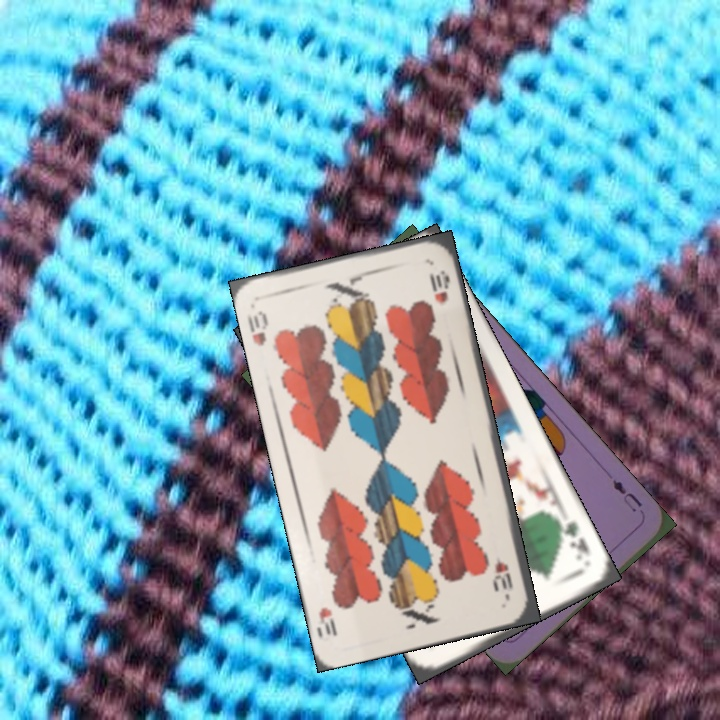EU: (608, 475, 645, 515)
GK: (553, 515, 593, 564)
H10: (244, 306, 271, 348), (491, 552, 516, 592)
